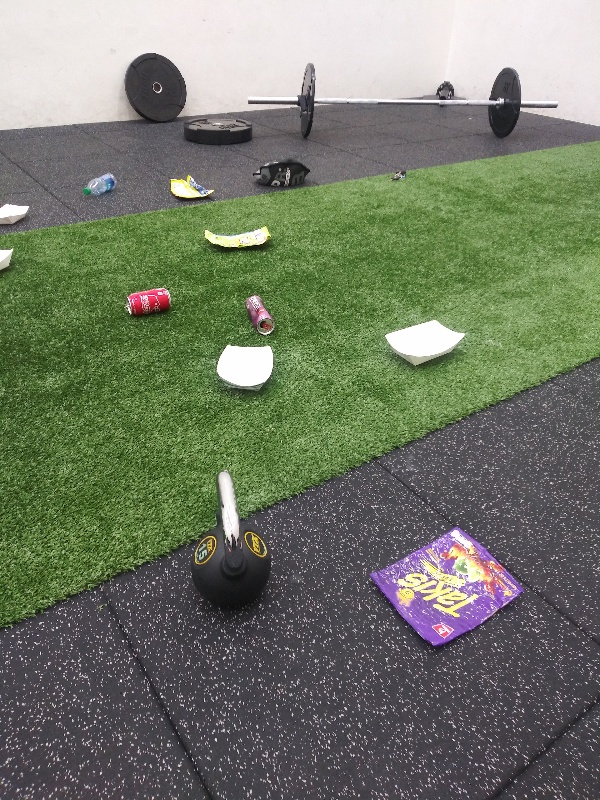bag: (367, 525, 526, 652), (201, 225, 277, 254), (163, 173, 219, 203)
bottle: (78, 171, 121, 200)
can: (123, 283, 178, 316), (243, 290, 278, 336)
plate: (383, 319, 467, 374), (215, 340, 276, 396), (1, 201, 35, 229), (1, 241, 16, 269)
